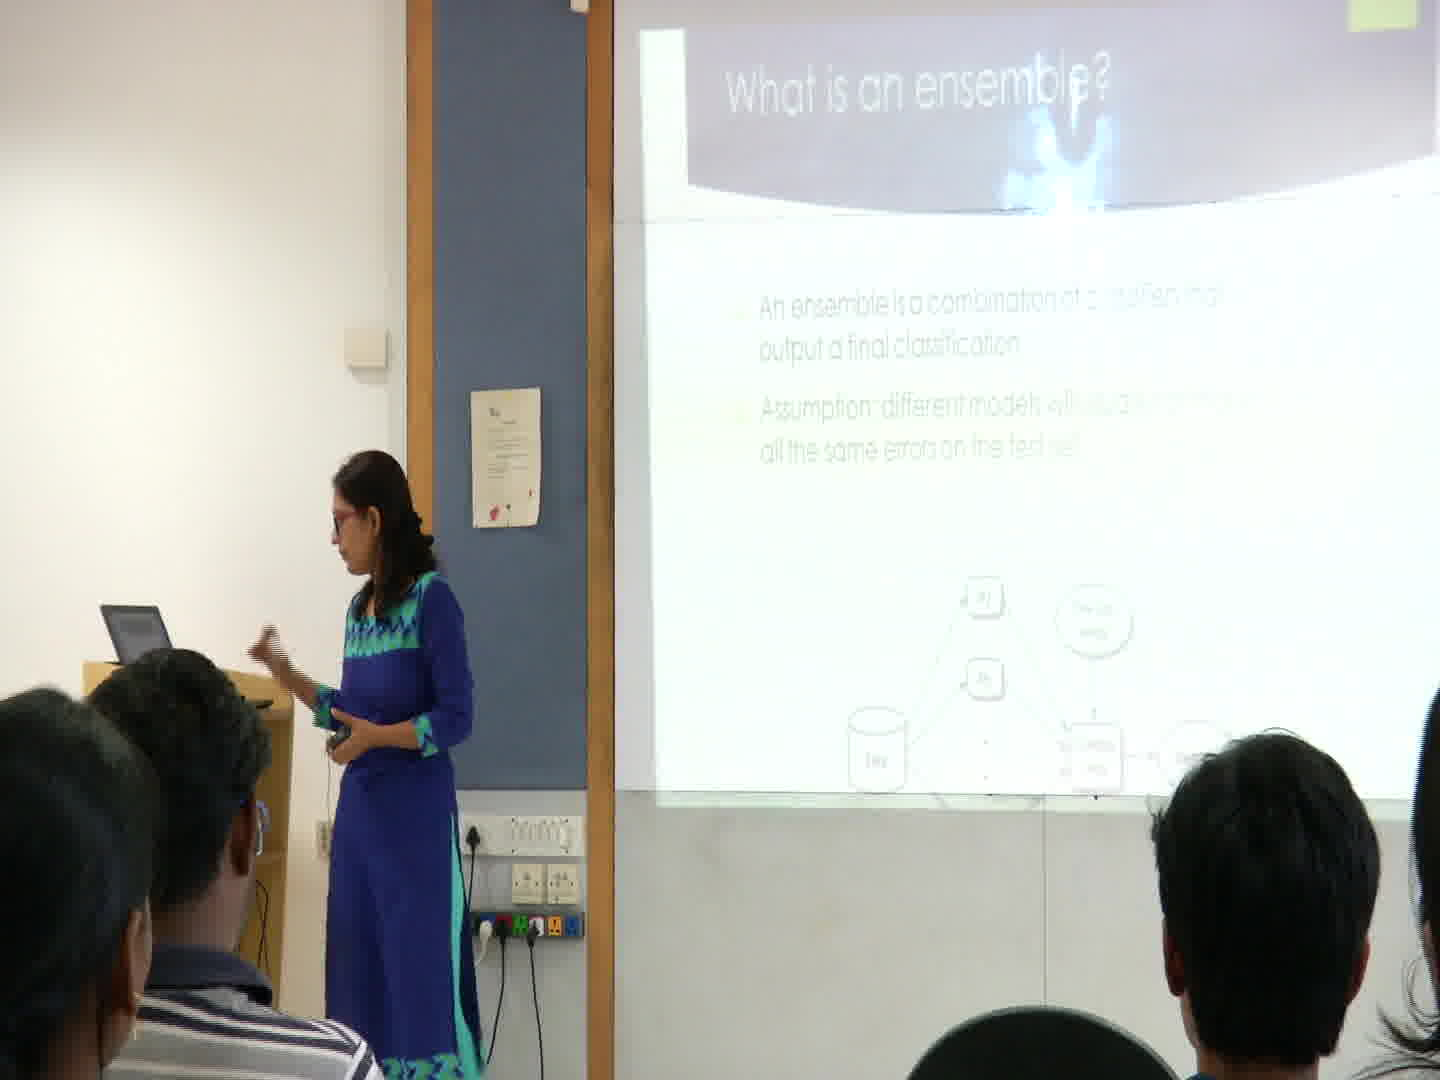slide: (638, 5, 1440, 812)
